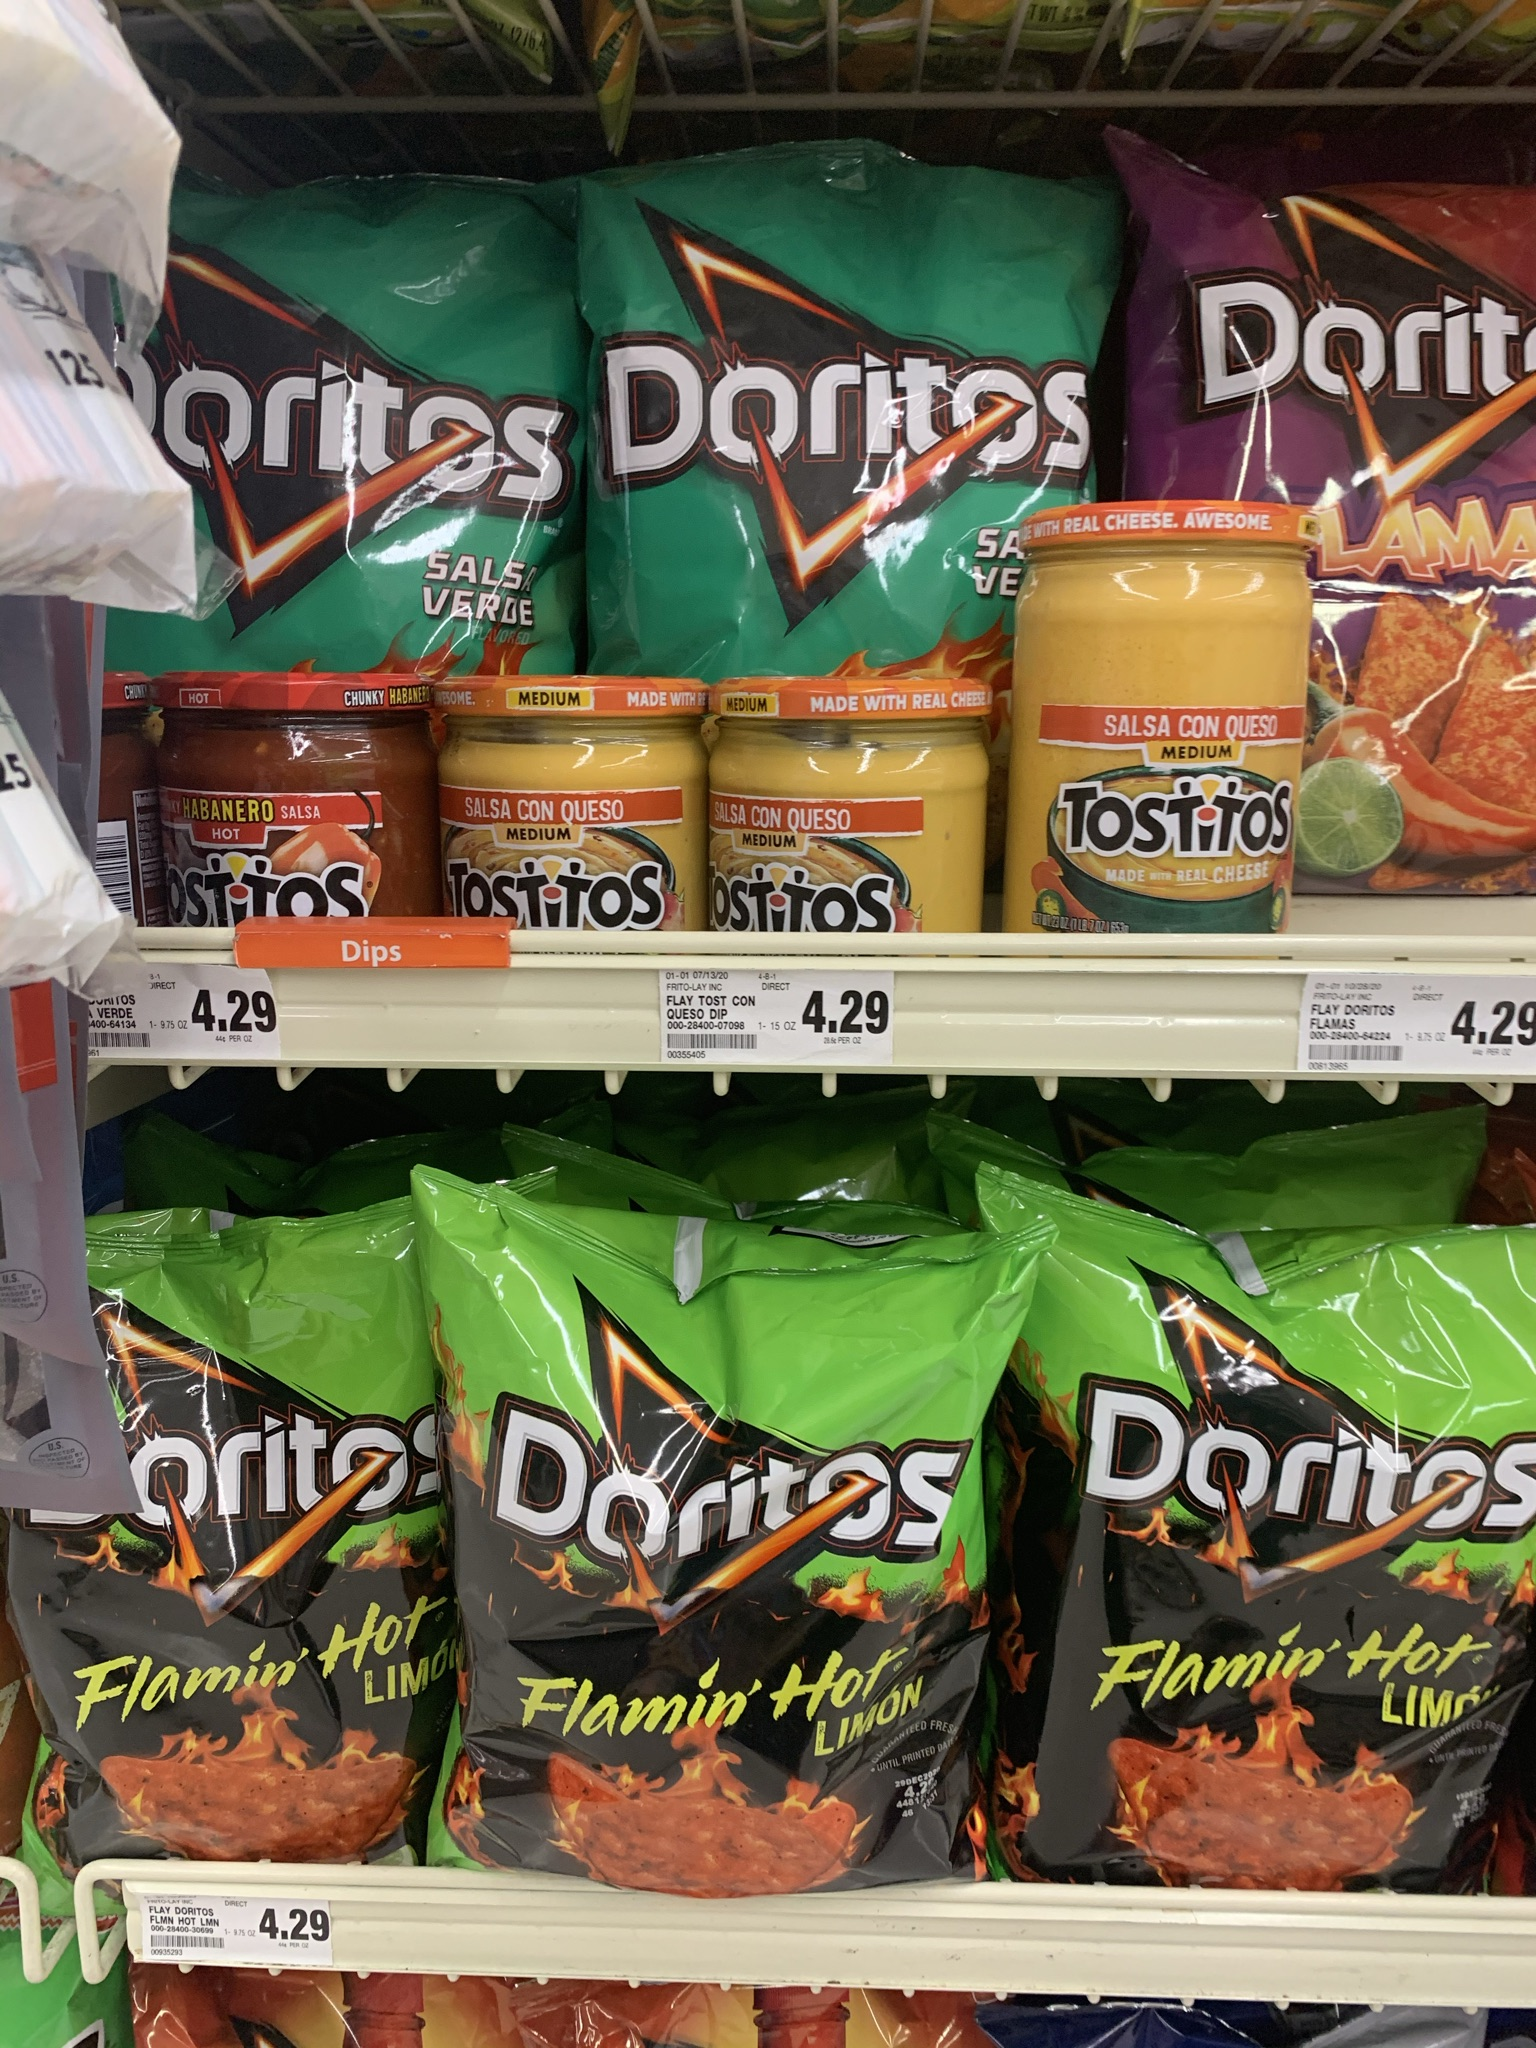doritos chips: (429, 1180, 947, 1861), (1008, 1184, 1513, 1866), (11, 1234, 457, 1804), (602, 179, 1020, 674), (142, 211, 582, 666), (1152, 161, 1526, 590)
